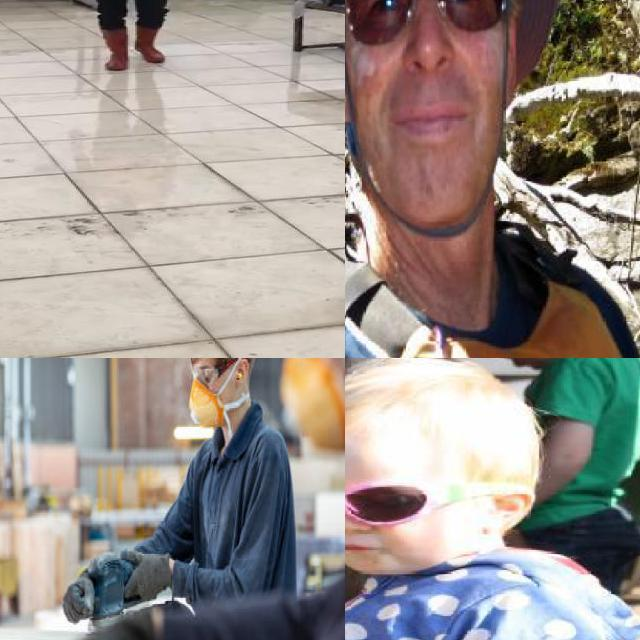No_Ear-Protection: (234, 358, 249, 386)
boots: (98, 24, 134, 71), (131, 24, 169, 64)
face_mask: (282, 358, 345, 448), (189, 380, 224, 427)
face_nomask: (345, 0, 496, 165), (479, 358, 553, 375)
glasses: (345, 444, 519, 519), (345, 0, 527, 47)
hand_glove: (121, 551, 172, 600), (84, 609, 163, 640), (63, 571, 94, 623), (192, 359, 237, 387)
head_nohelmet: (345, 358, 510, 430)
person: (345, 373, 607, 640), (452, 358, 640, 594), (57, 0, 189, 77)
